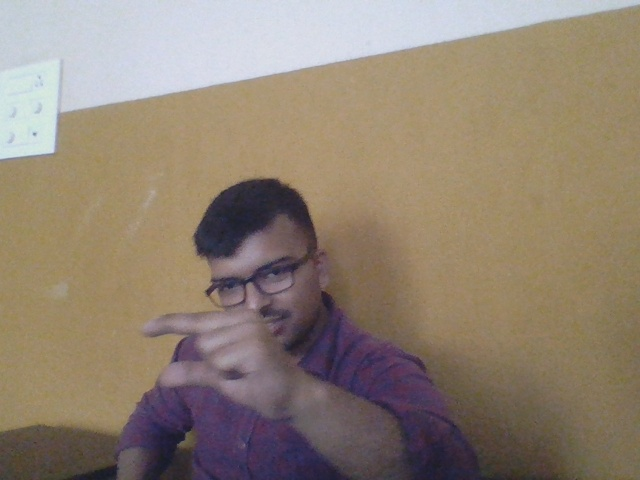No: (119, 289, 308, 424)
